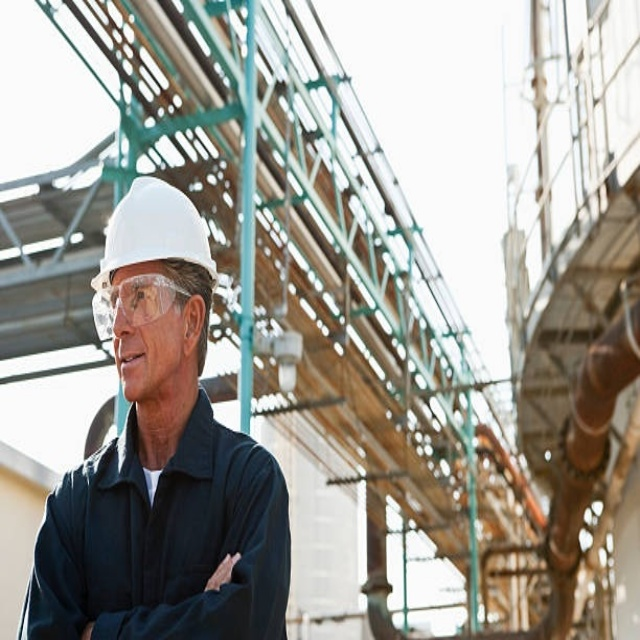Gafas: (88, 268, 189, 344)
Sin_mascara: (113, 344, 150, 387)
